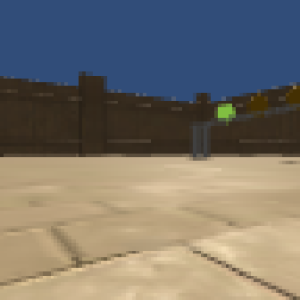goodGoal: (212, 101, 239, 125)
goodGoalMulti: (246, 90, 269, 115), (282, 84, 300, 110)
wall: (192, 122, 213, 162)
